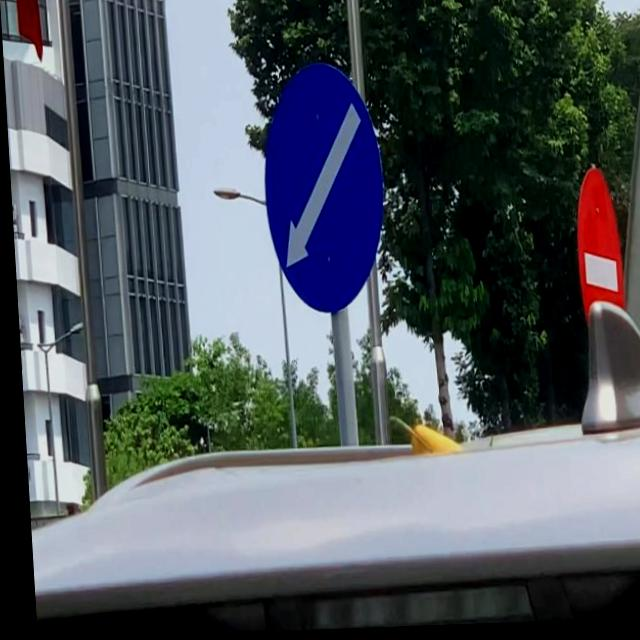Vong chuong ngai vat sang trai: (257, 64, 387, 318)
